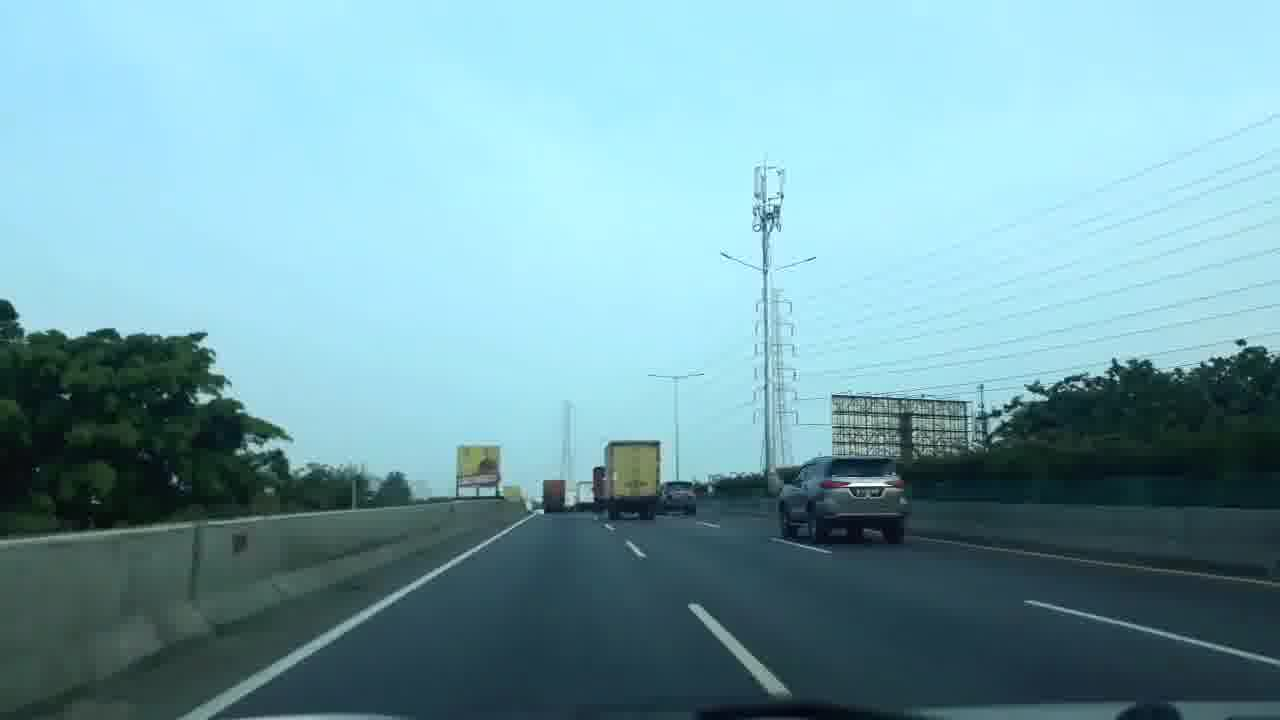plate_positive: (855, 487, 881, 497)
